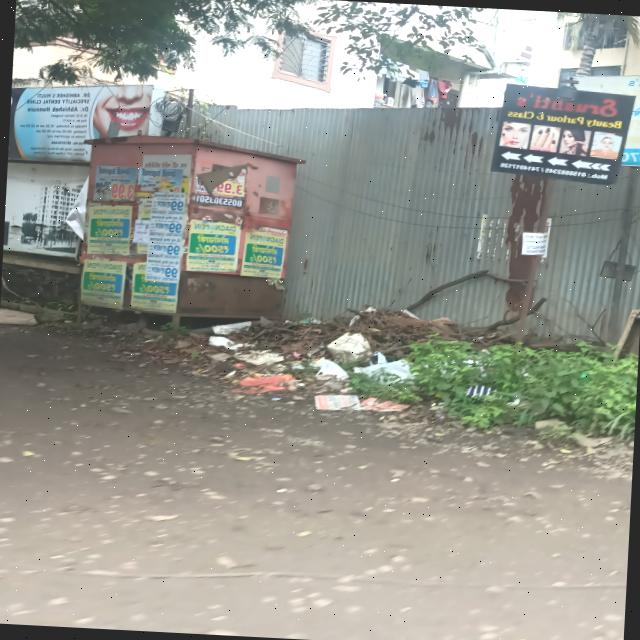garbage: (205, 302, 466, 405)
